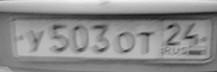license-plateSW: (10, 15, 214, 61)
